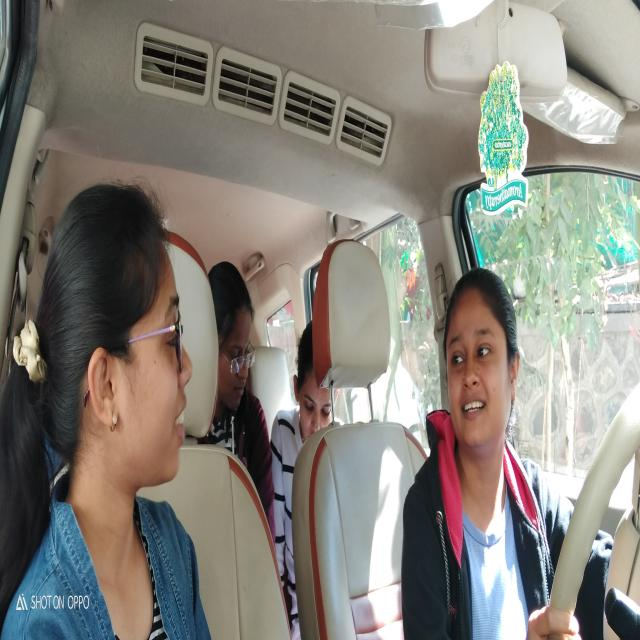LeftRight: (443, 265, 518, 461)
person: (44, 178, 192, 498), (209, 266, 258, 428), (293, 324, 337, 443)
talking: (170, 394, 188, 452), (460, 398, 487, 420)
